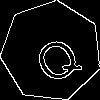Q: (26, 26, 85, 89)
